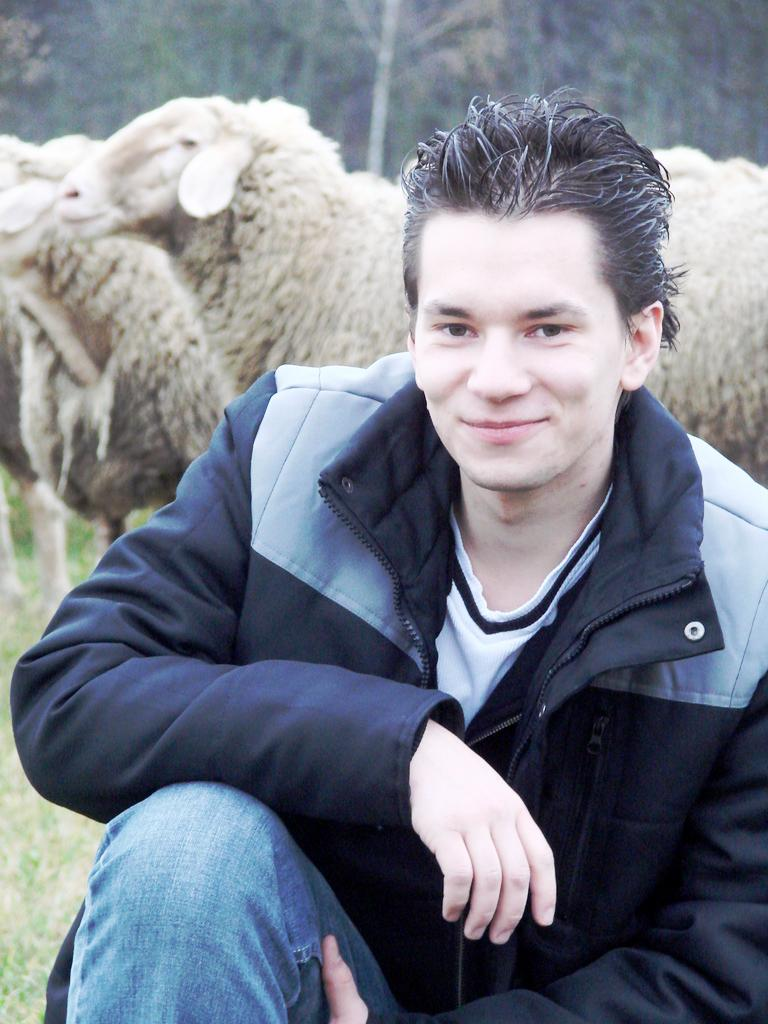Sheep: (55, 92, 768, 486), (0, 140, 234, 552), (0, 286, 121, 613)
